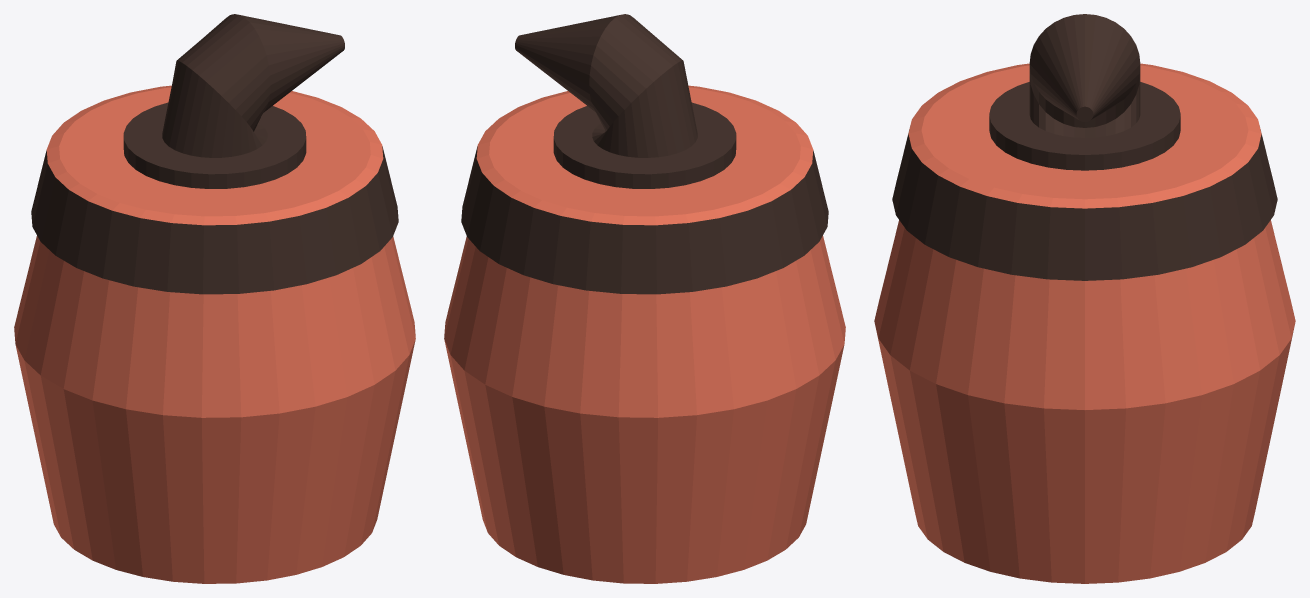
The model's file is Grenade.fbx.
The picture shows the model from 3 angles, left to right: view 1: azimuth 30°, elevation 25°; view 2: azimuth 150°, elevation 25°; view 3: azimuth 270°, elevation 25°; orthographic projection. The views are drawn at different scales.
Parts seen in each view (by area): view 1: Cylinder; view 2: Cylinder; view 3: Cylinder.
Part boxes in pixels (box(x1,y1,x2,y2)): Cylinder: box(14, 14, 415, 583); Cylinder: box(444, 14, 845, 583); Cylinder: box(874, 14, 1295, 583).
Bounding box in the file's own units: 200 × 269 × 200.
